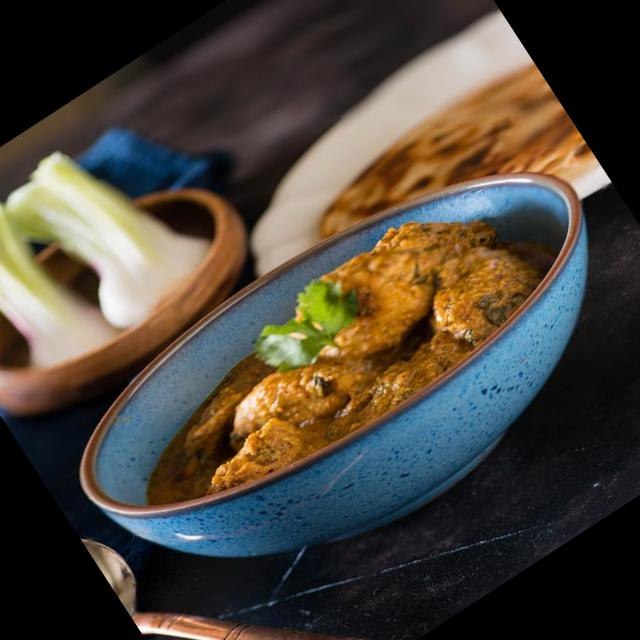chicken: (69, 136, 595, 554)
roti: (298, 33, 600, 304)
